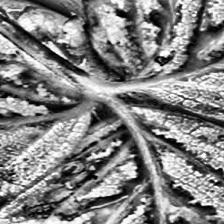Angular Leafspot: (0, 104, 224, 224), (0, 3, 121, 224), (82, 0, 224, 132)
